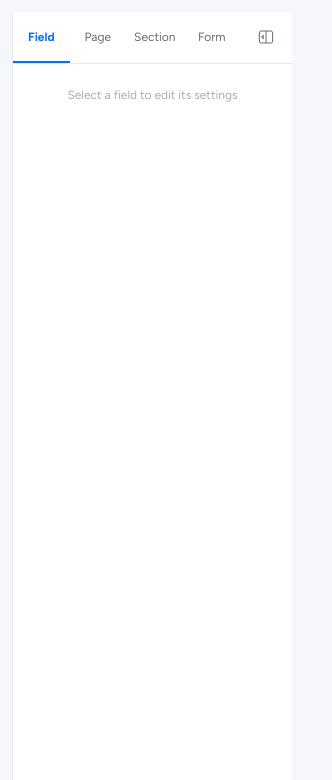
it: SettingsPanel › should switch to Page tab and show page title input
Click the button "Page" at {"x": 98, "y": 38}, box [70,12,126,63]
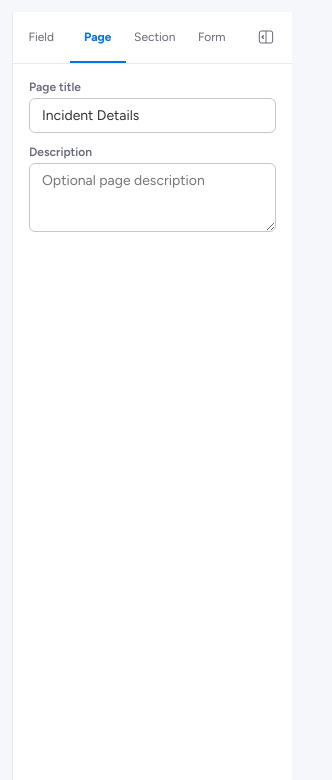
Result: the field showing "Incident Details" is shown at [29,98,276,133]
